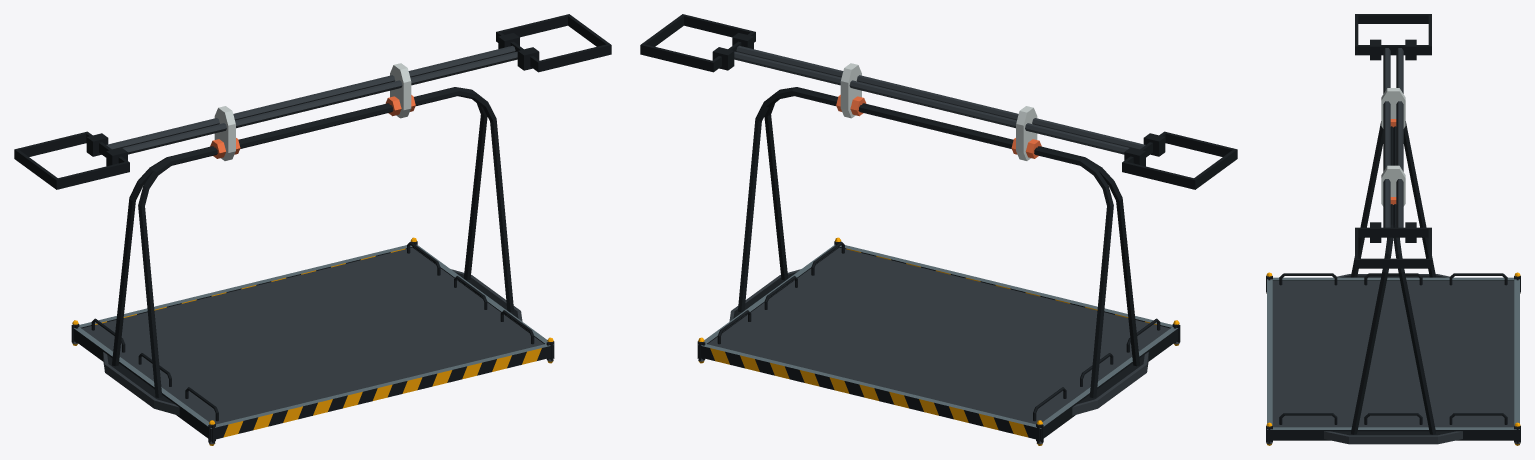
The model's file is prop47.FBX.
3 views of the same model, side by side, from view 1: azimuth 30°, elevation 25°; view 2: azimuth 150°, elevation 25°; view 3: azimuth 270°, elevation 25° (orthographic). The views are drawn at different scales.
Parts seen in each view (by area): view 1: prop47; view 2: prop47; view 3: prop47.
Part boxes in pixels (bbox=[...]): prop47: bbox=[14, 14, 611, 445]; prop47: bbox=[640, 14, 1237, 445]; prop47: bbox=[1266, 14, 1520, 445].
Size of the model in its own units: 35.63 by 16.37 by 15.61.
